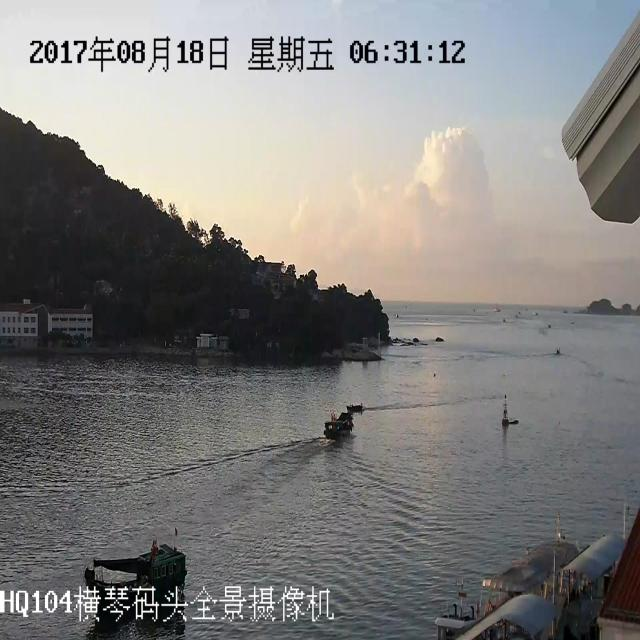buoy: (492, 392, 522, 436)
fishing boat: (74, 529, 201, 612), (324, 396, 356, 437)
reef: (570, 295, 624, 324)
